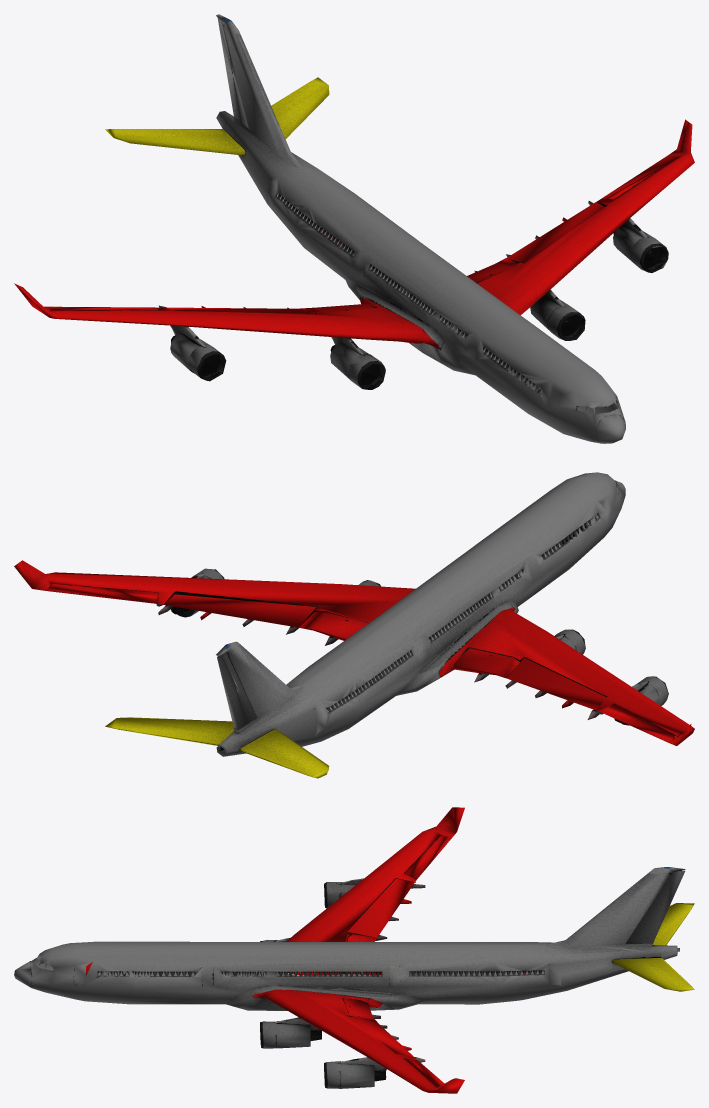
Rendered from airbus_d.obj.
The picture shows the model from 3 angles, top to bottom: view 1: azimuth 30°, elevation 25°; view 2: azimuth 150°, elevation 25°; view 3: azimuth 270°, elevation 25°; orthographic projection. The views are drawn at different scales.
Parts seen in each view (by area): view 1: airbus_c; view 2: airbus_c; view 3: airbus_c.
Boxes of the visible parts, x1,y1,x2,y2 form: airbus_c: (14,14,694,443); airbus_c: (14,472,694,778); airbus_c: (14,807,694,1093).
Size of the model in its own units: 16.8 by 4 by 17.75.
2 materials, 1 textured.
